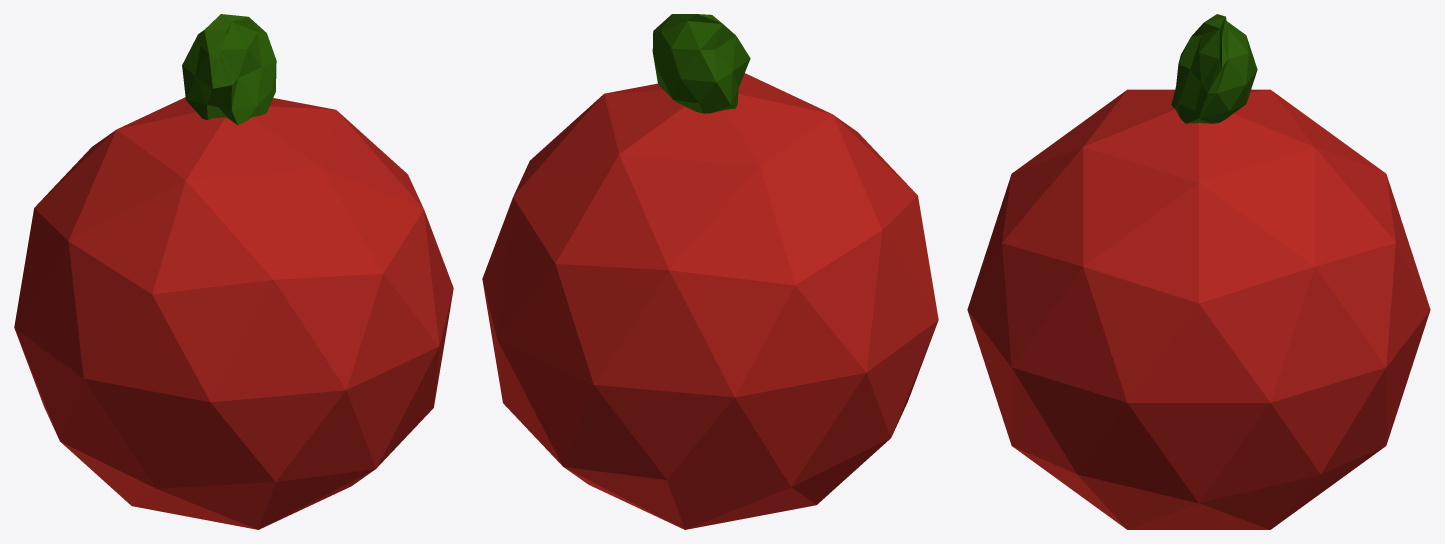
The model's file is Fruit.fbx.
The picture shows the model from 3 angles, left to right: view 1: azimuth 30°, elevation 25°; view 2: azimuth 150°, elevation 25°; view 3: azimuth 270°, elevation 25°; orthographic projection. The views are drawn at different scales.
Visible parts, largest first — view 1: Icosphere, Icosphere.001; view 2: Icosphere, Icosphere.001; view 3: Icosphere, Icosphere.001.
Boxes of the visible parts, bbox=[...] form: Icosphere: bbox=[14, 97, 453, 529]; Icosphere.001: bbox=[182, 14, 276, 125]; Icosphere: bbox=[482, 73, 938, 529]; Icosphere.001: bbox=[652, 14, 750, 113]; Icosphere: bbox=[967, 89, 1430, 529]; Icosphere.001: bbox=[1171, 14, 1257, 123].
Bounding box in the file's own units: 190 × 240 × 200.
